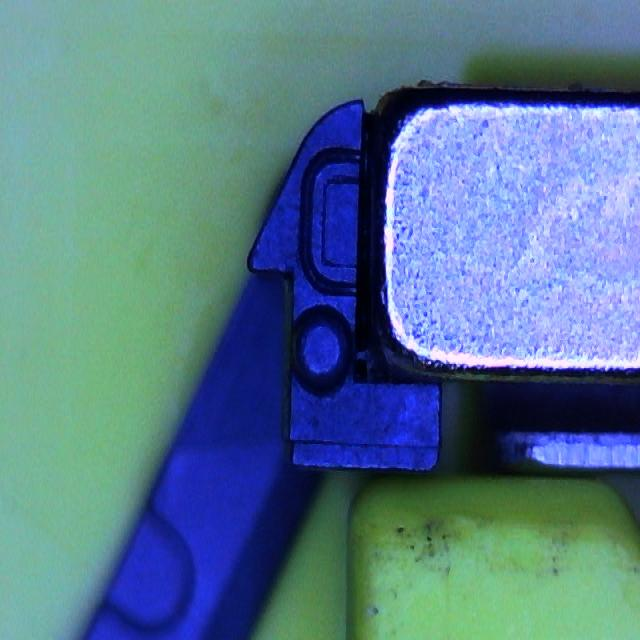lacking: (299, 144, 363, 300)
